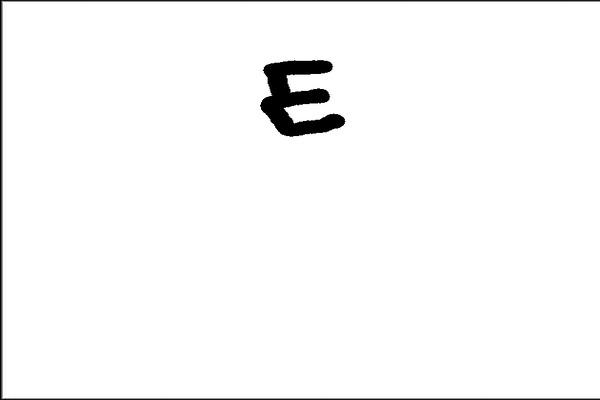E: (250, 54, 347, 141)
